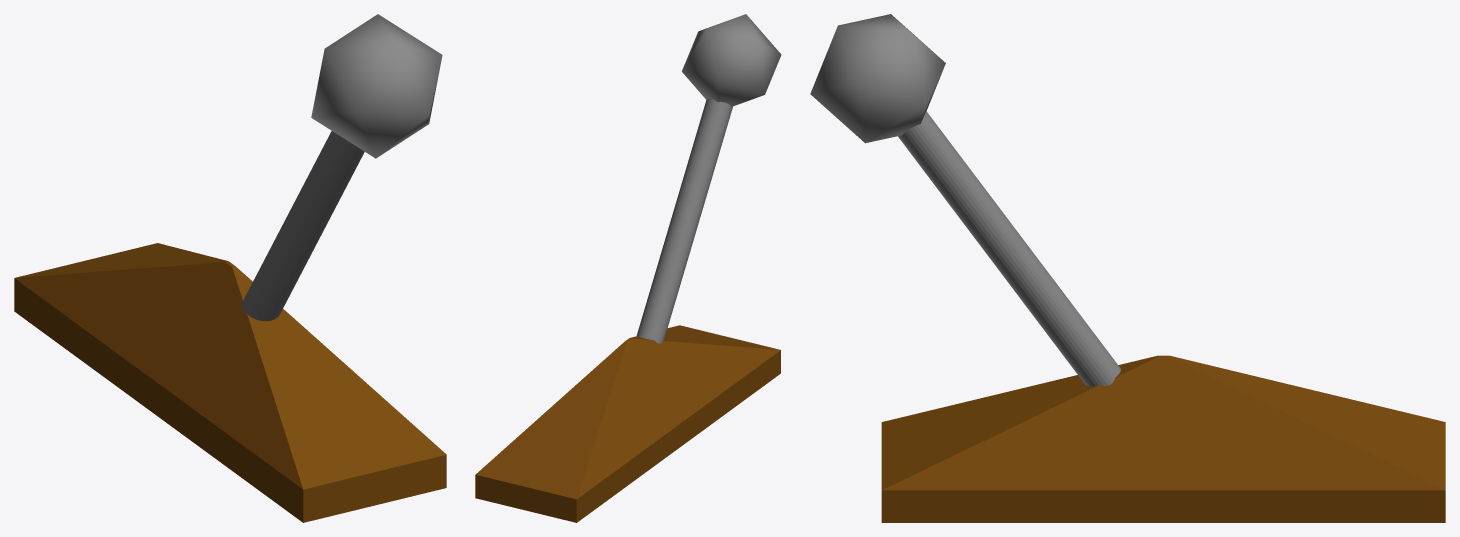
3 renders of one model, left to right at view 1: azimuth 30°, elevation 25°; view 2: azimuth 150°, elevation 25°; view 3: azimuth 270°, elevation 25°, orthographic. The views are drawn at different scales.
Parts seen in each view (by area): view 1: Base, Icosphere, Lever; view 2: Base, Lever, Icosphere; view 3: Base, Lever, Icosphere.
Boxes of the visible parts, x1=… form: Base: x1=14, y1=243, x2=446, y2=522; Icosphere: x1=311, y1=14, x2=442, y2=158; Lever: x1=241, y1=131, x2=364, y2=321; Base: x1=475, y1=325, x2=780, y2=522; Lever: x1=636, y1=98, x2=732, y2=343; Icosphere: x1=682, y1=14, x2=781, y2=106; Base: x1=881, y1=355, x2=1445, y2=522; Lever: x1=898, y1=111, x2=1120, y2=386; Icosphere: x1=810, y1=14, x2=945, y2=143.
Size of the model in its own units: 0.3472 by 1.1 by 1.36.
